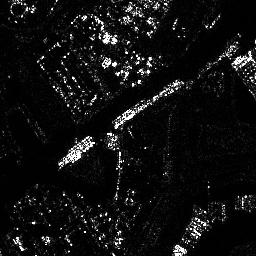ship: (56, 135, 96, 164), (111, 97, 149, 124)
